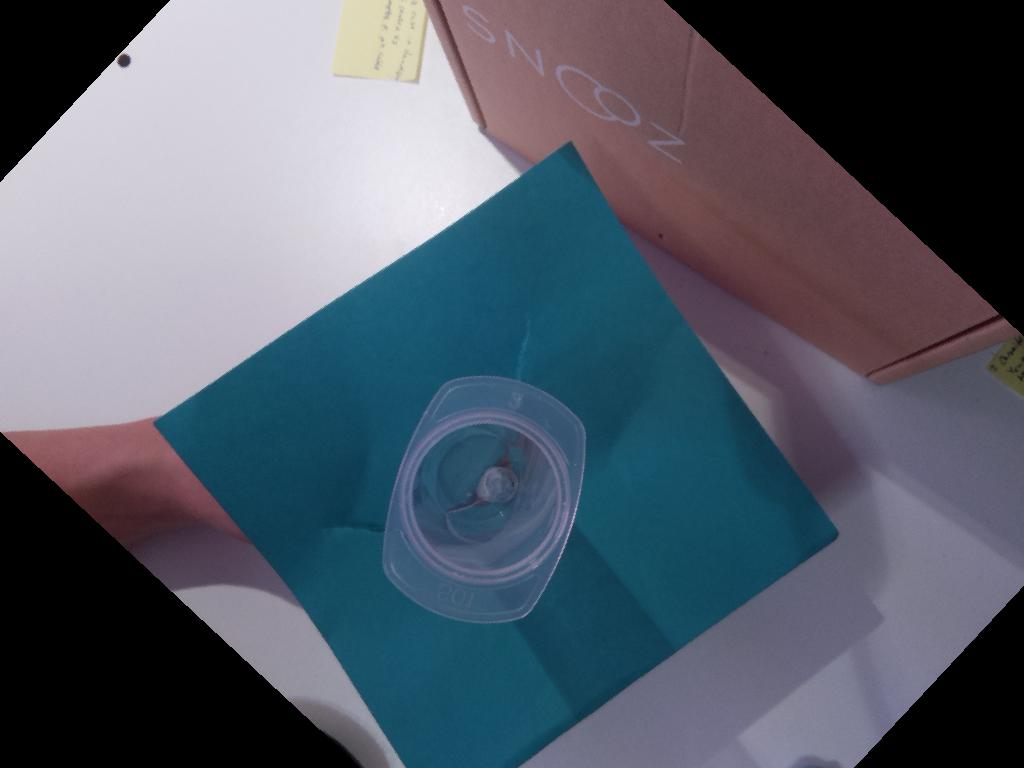clean: (382, 373, 591, 627)
